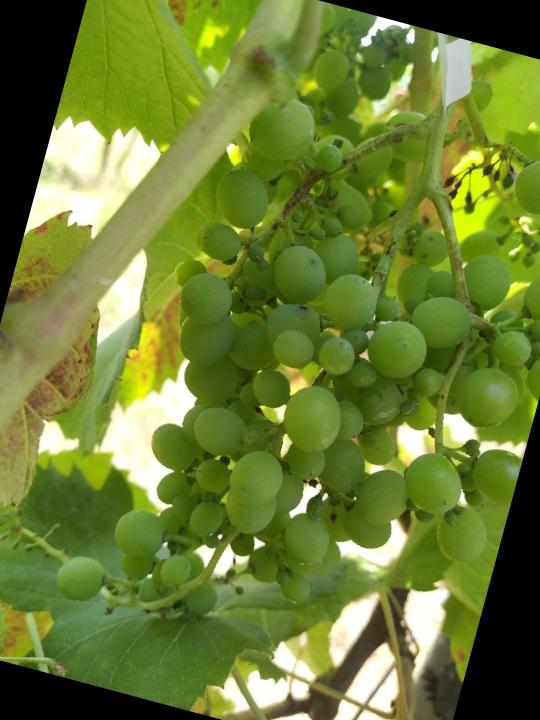grape: (45, 51, 540, 708)
